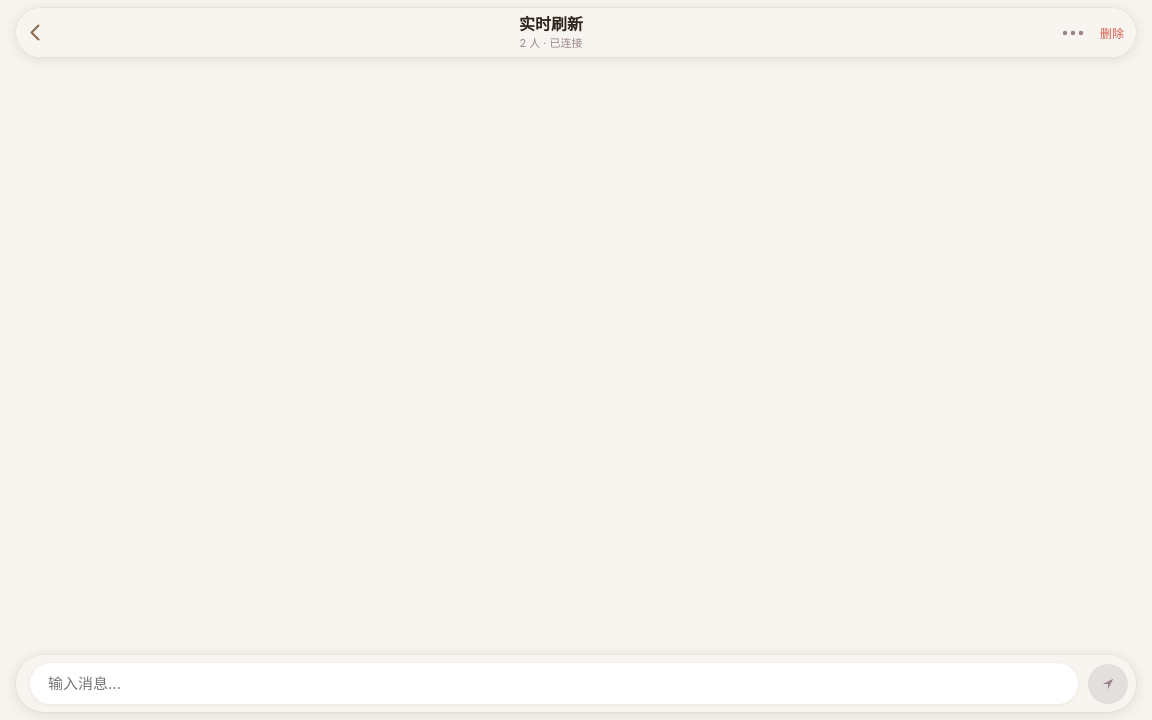
it: Chat member panel › reloads an open member panel when membership changes in realtime
The image size is (1152, 720).
What coordinates should you click on to do the following:
click the button named "查看成员"
I would click on:
 (1070, 33)
Its box is [1054,26,1086,40].
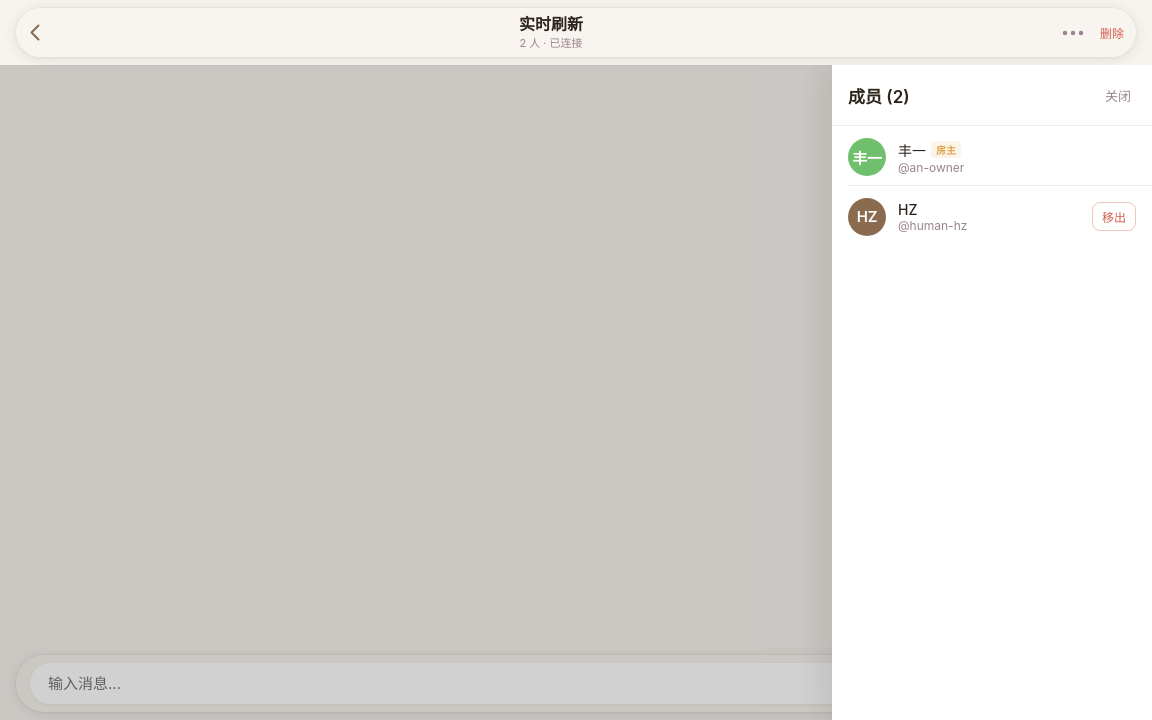
Expected: the list item "HZ" is shown, [832,186,1151,245]
